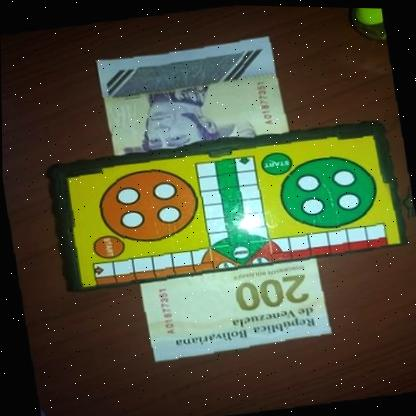two_hundred-front-vef: (92, 27, 332, 367)
